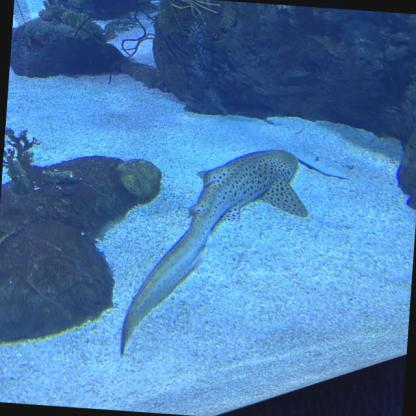fish: (107, 136, 312, 366)
